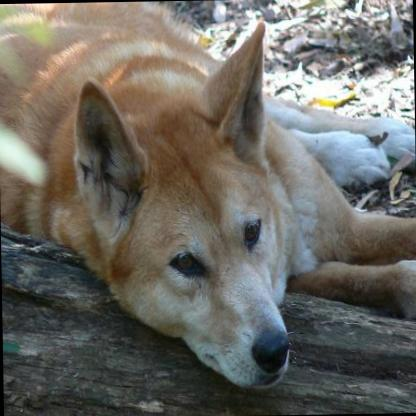dingo: (0, 0, 416, 393)
